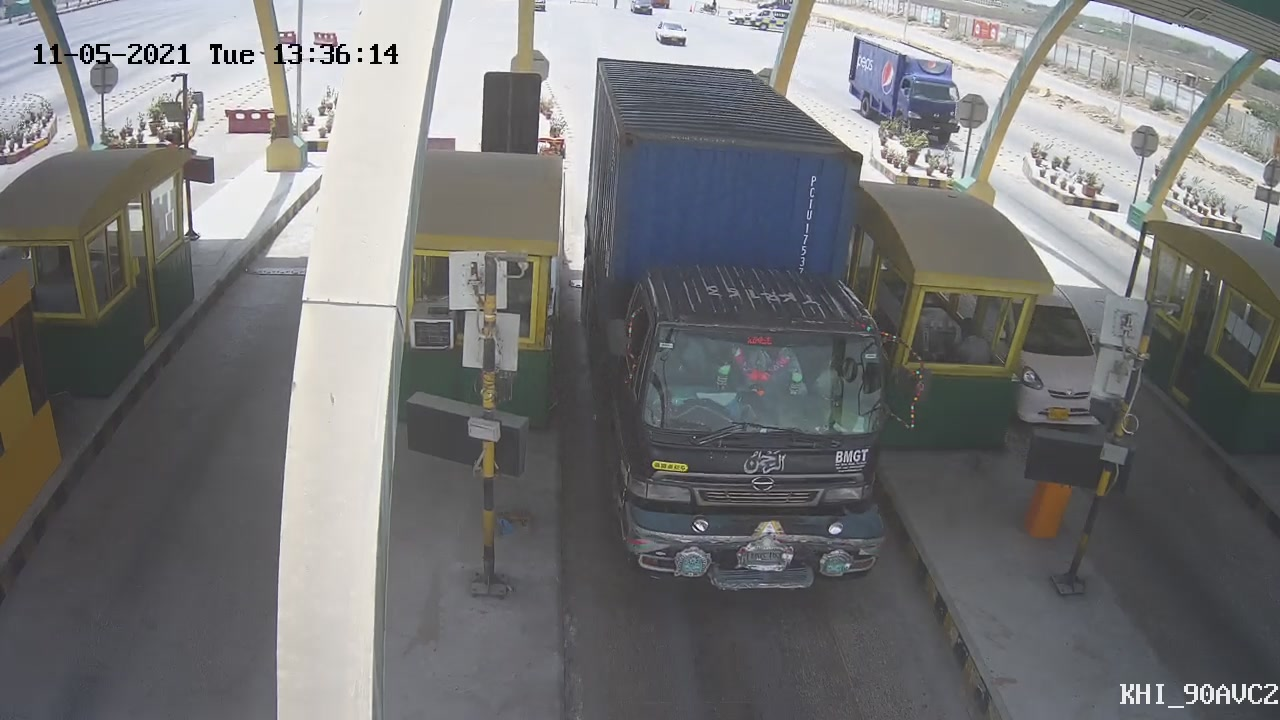F5: (582, 52, 896, 596)
